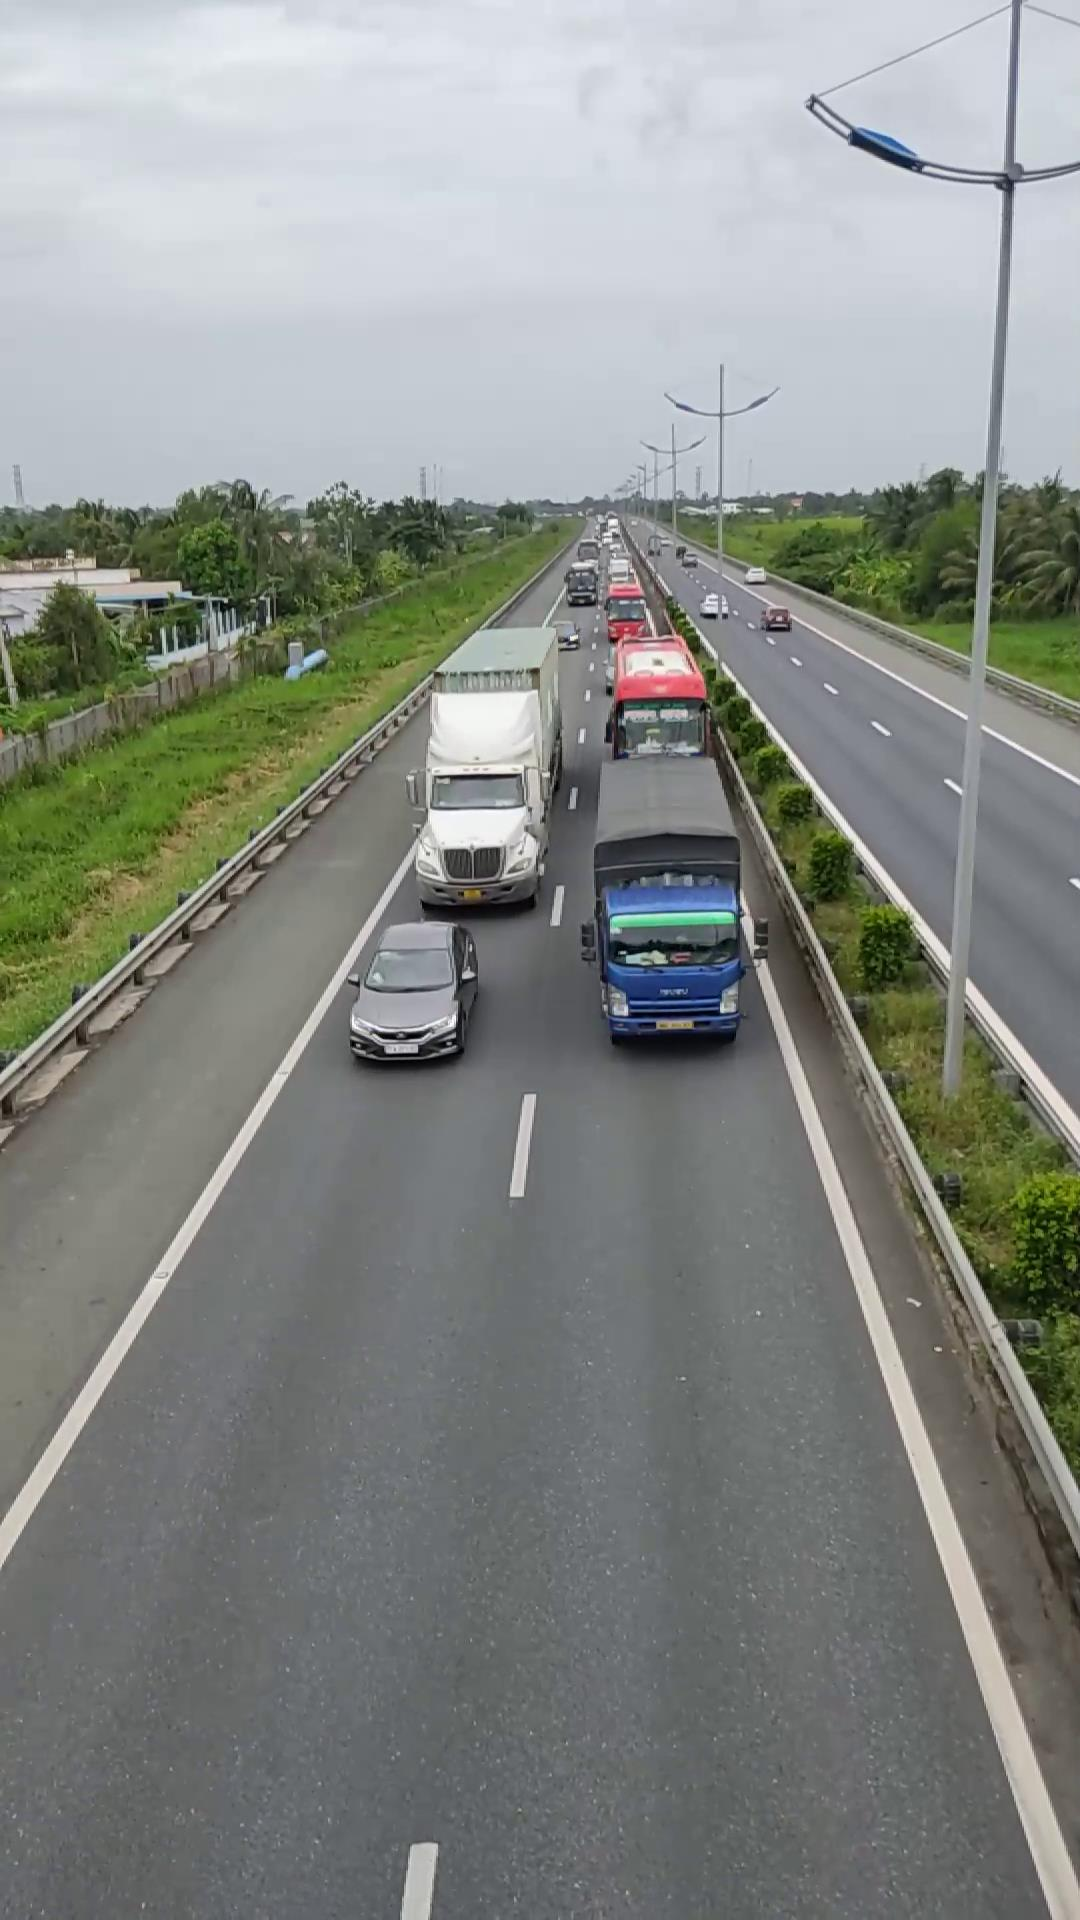car: (345, 917, 479, 1063)
container: (412, 622, 559, 912)
truck: (583, 760, 751, 1045)
